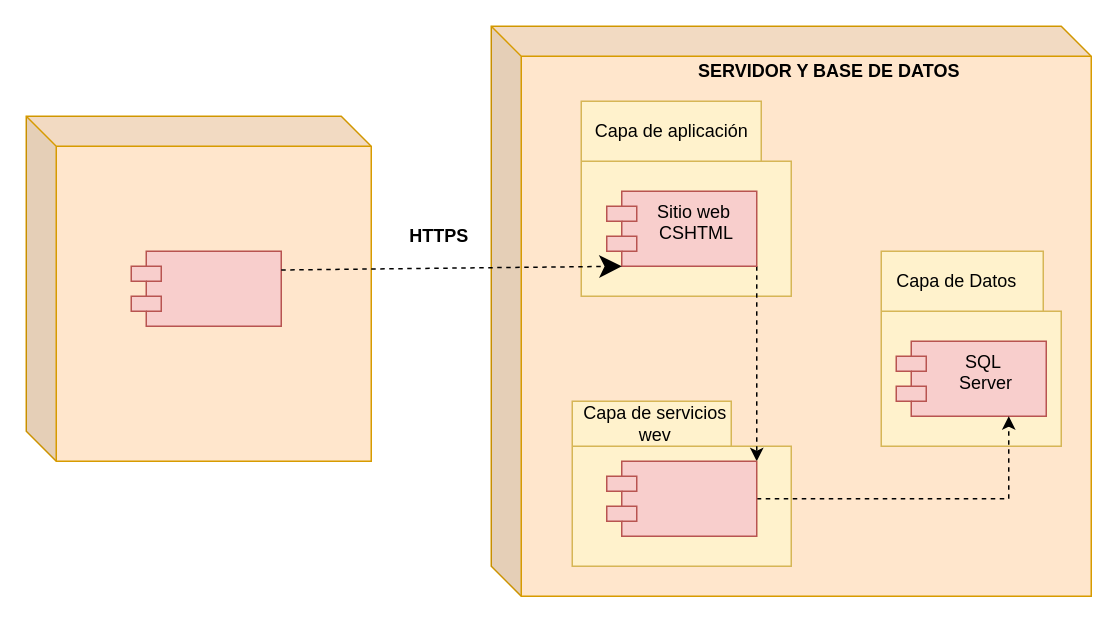
The diagram is 1118 pixels wide and 623 high, and some of its shapes have lost their labels. The centre of each missing label's shape, as x and y in pixels:
"Controladores" goes at [681,498].
"Module" goes at [205,288].
